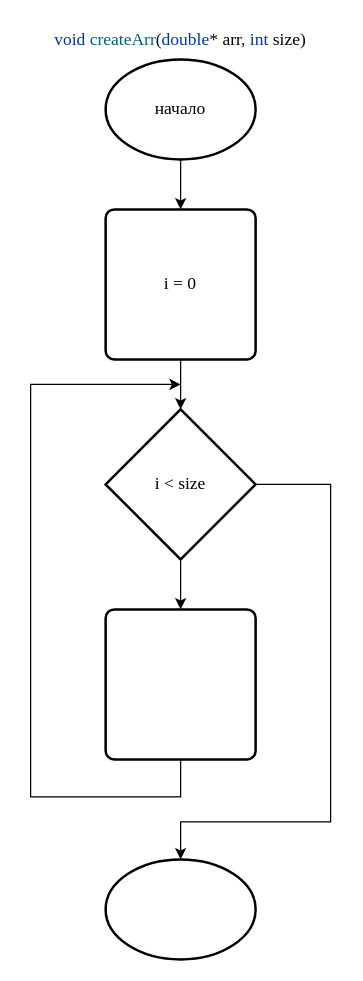
Some shapes in this 363 by 981 pixel diagram are drawn without their labels. The centre of each missing label's shape, as x and y in pixels:
arr [ i ] = (rand() % ( 20001 ) - 10000 ) / 100.0 i = i + 1: the point at 180,684
конец: the point at 180,909
